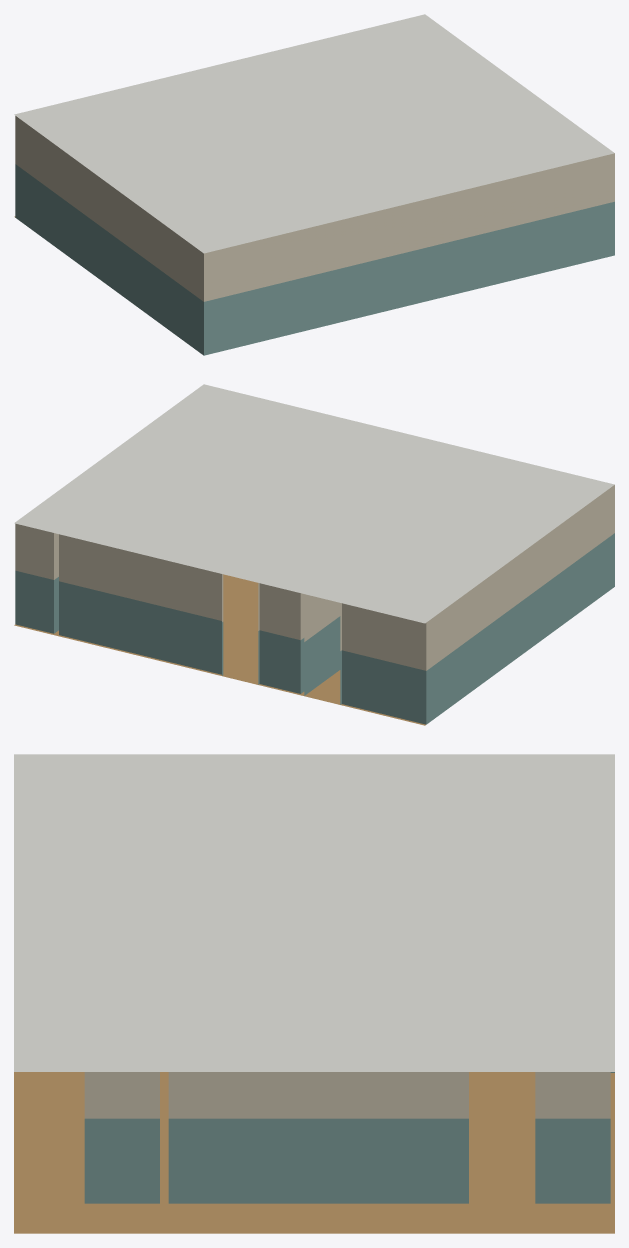
Rendered from chunk_0_4.glb.
The picture shows the model from 3 angles, top to bottom: view 1: azimuth 30°, elevation 25°; view 2: azimuth 150°, elevation 25°; view 3: azimuth 270°, elevation 25°; orthographic projection. The views are drawn at different scales.
Parts seen in each view (by area): view 1: chunk_0_4; view 2: chunk_0_4; view 3: chunk_0_4.
Part boxes in pixels (<box>): chunk_0_4: <box>14,14,614,355</box>; chunk_0_4: <box>14,384,614,725</box>; chunk_0_4: <box>14,754,614,1233</box>.
Bounding box in the file's own units: 12 × 2.85 × 9.6.
